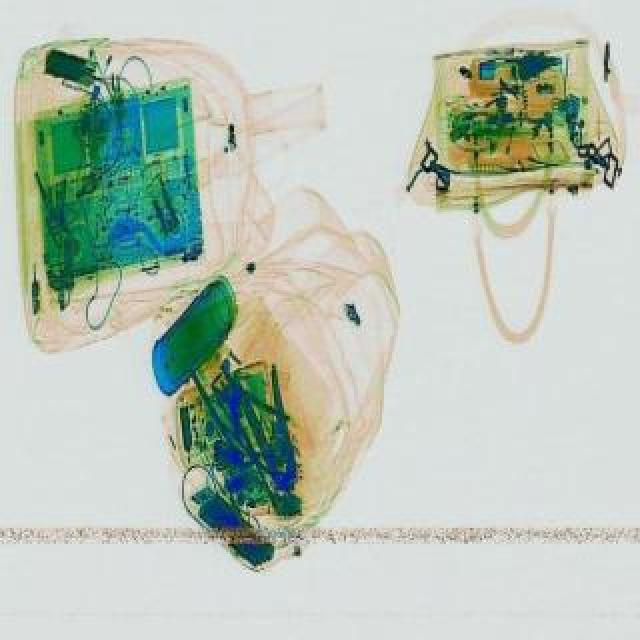wrench: (226, 364, 318, 504)
